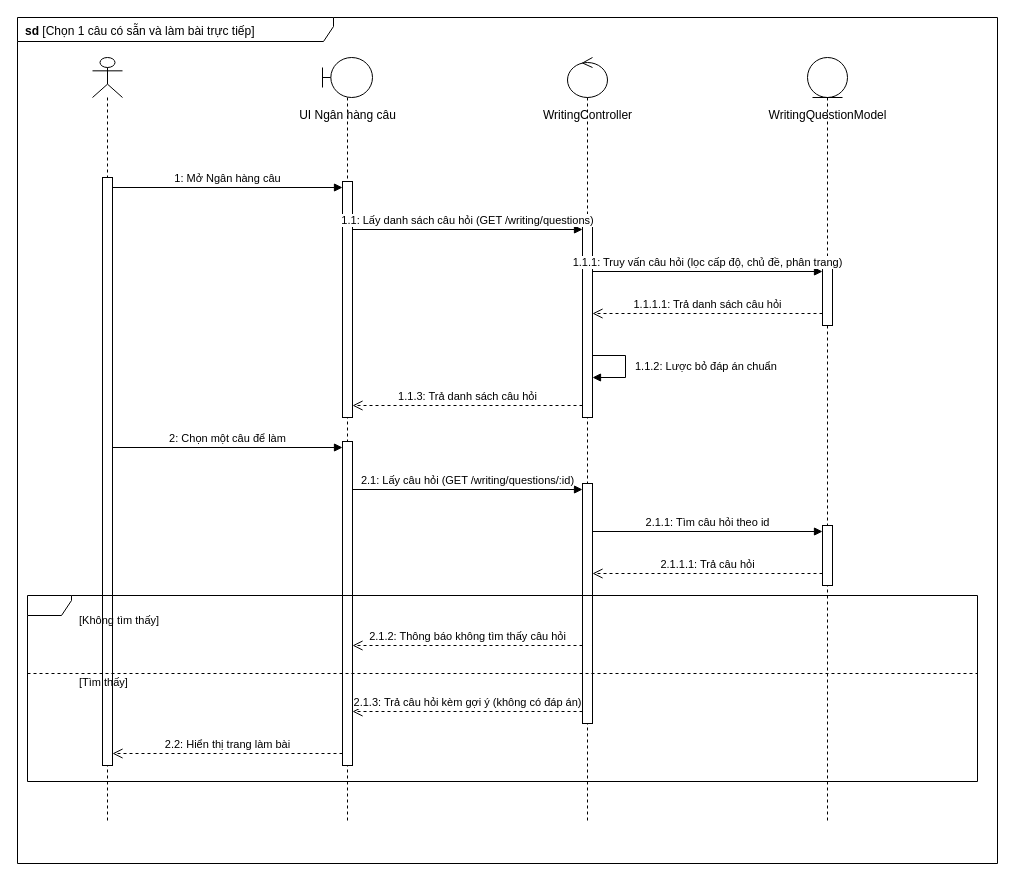
This 1015x881 diagram has some shape labels left out. Each missing label, with the box of its shape:
alt: (26, 594, 978, 782)
Member: (92, 56, 122, 824)
